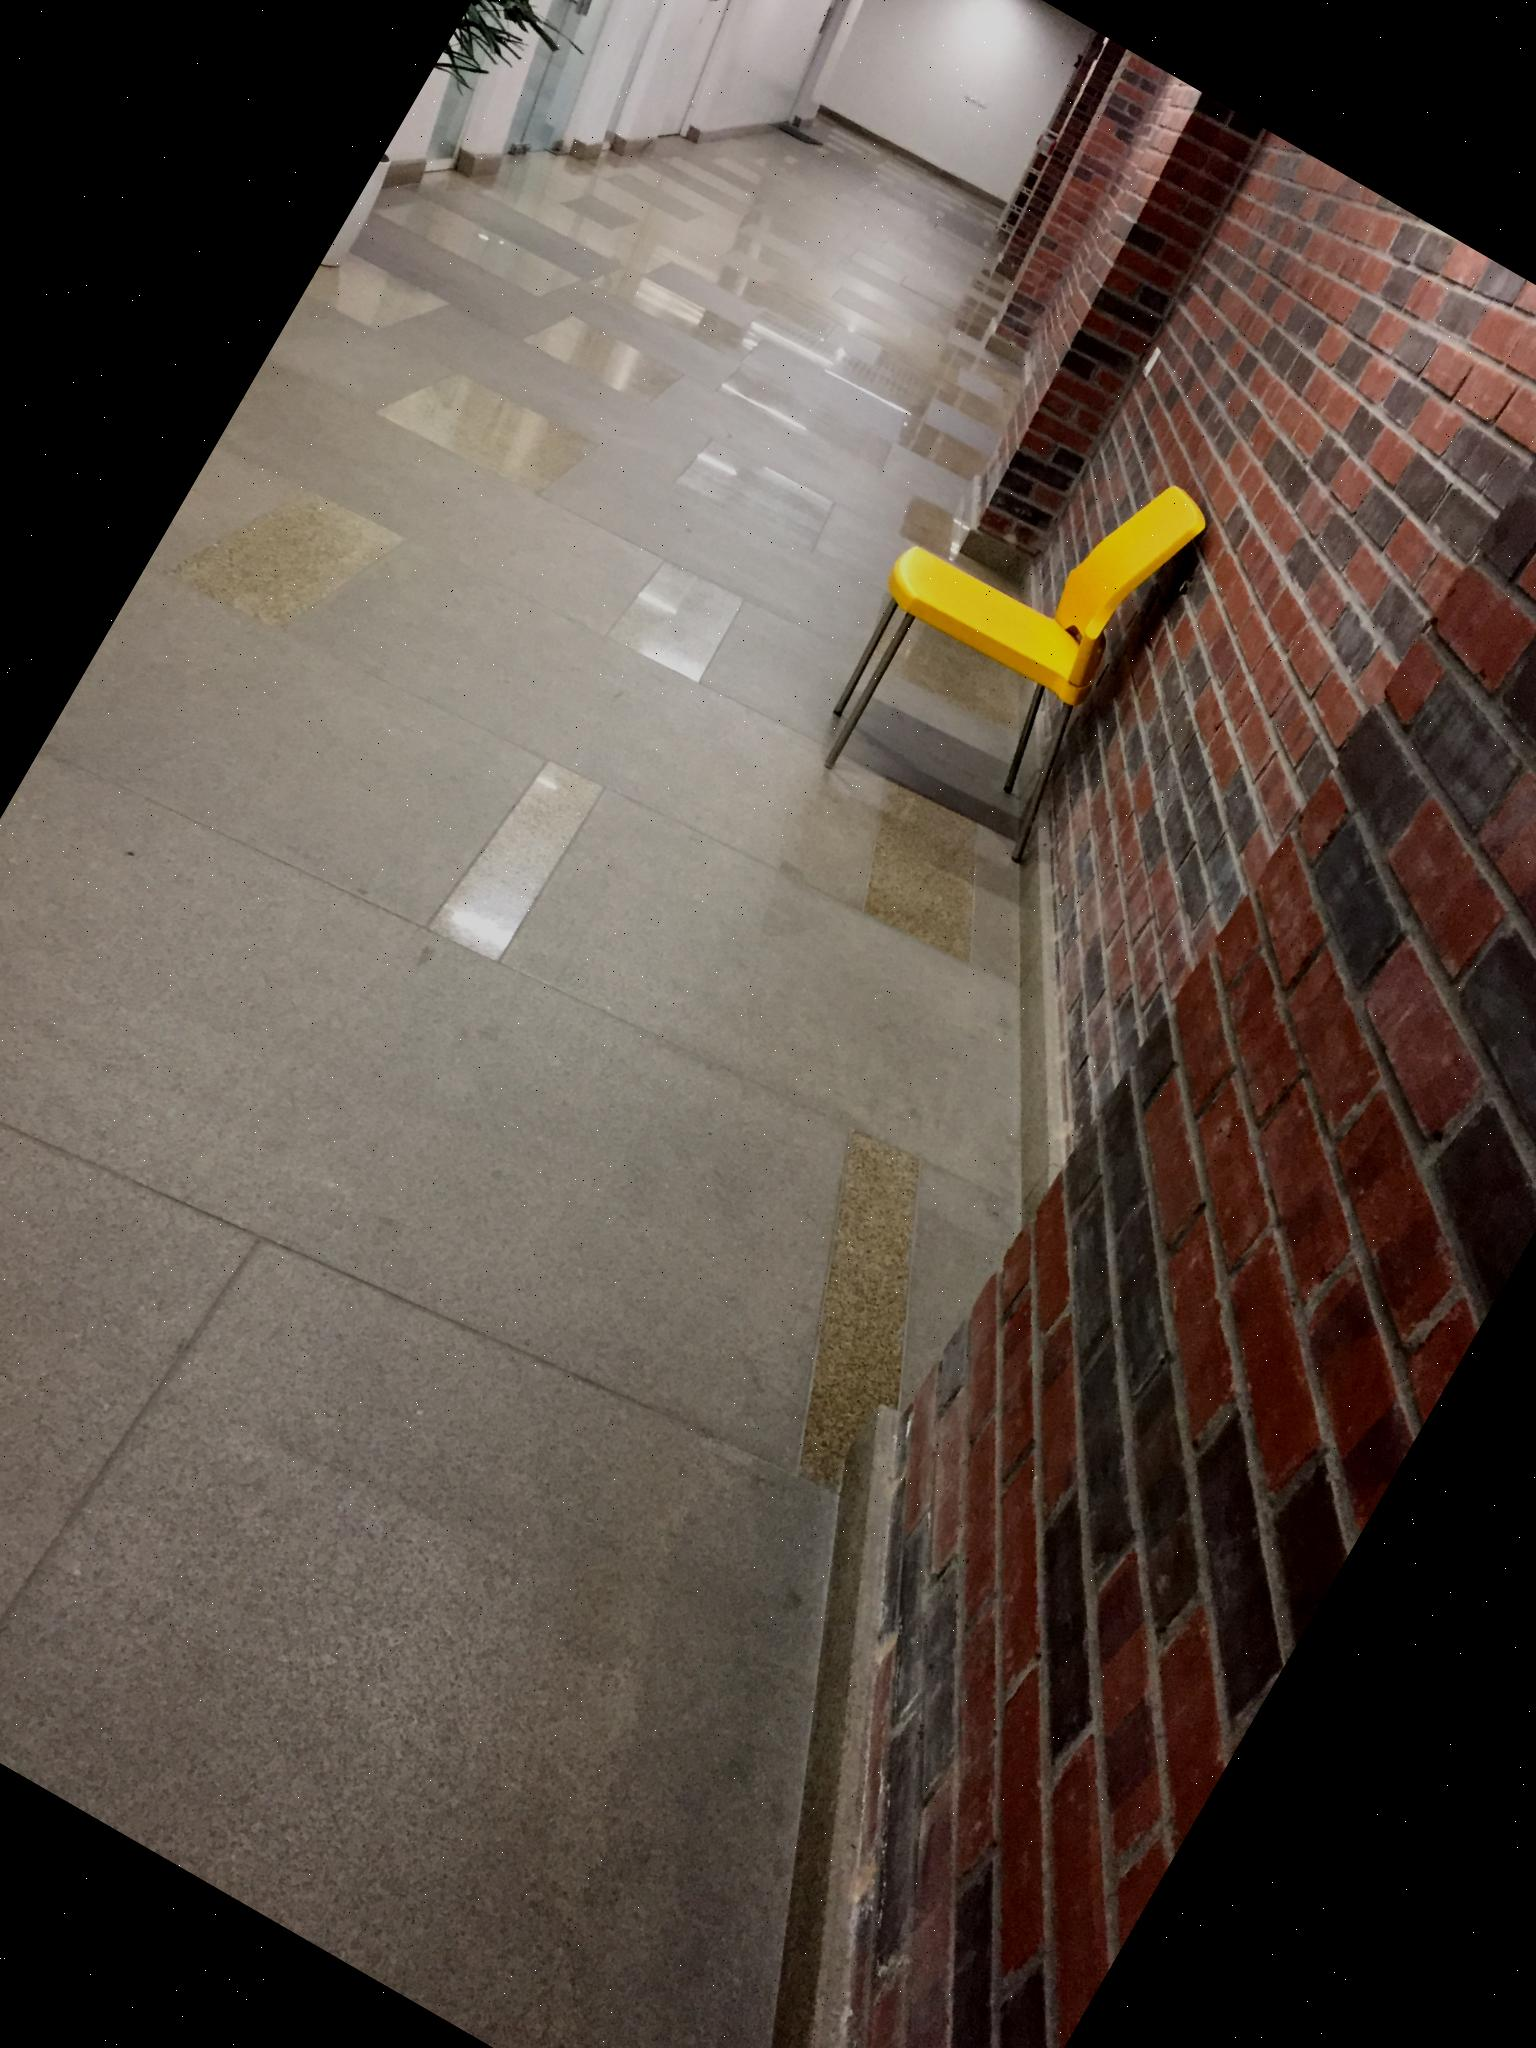chair: (787, 381, 1226, 877)
